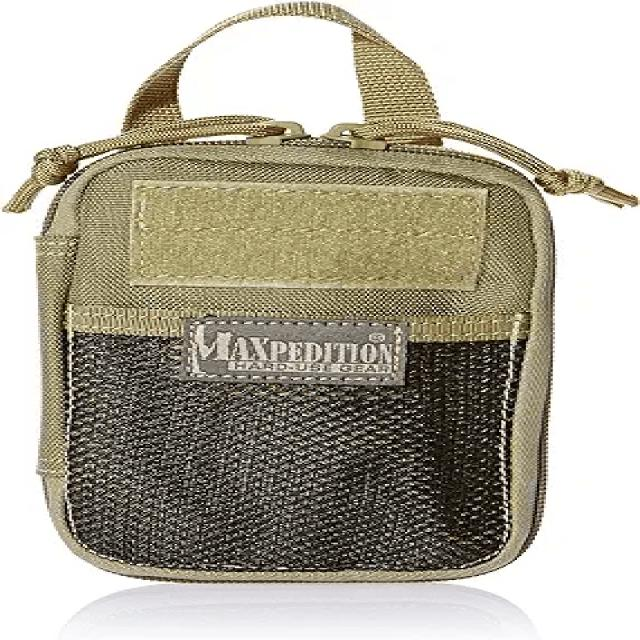backpack: (1, 1, 639, 591)
